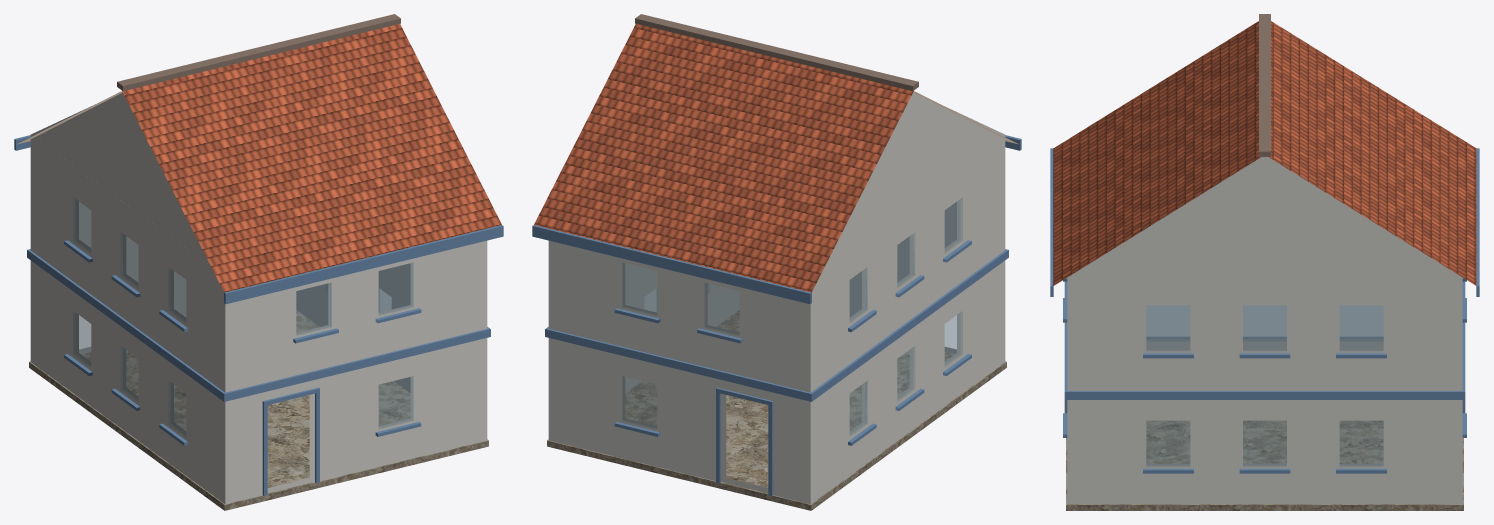
The model's file is cove-house-white.reveal-v1.lod1.glb.
3 renders of one model, left to right at view 1: azimuth 30°, elevation 25°; view 2: azimuth 150°, elevation 25°; view 3: azimuth 270°, elevation 25°, orthographic.
Visible parts, largest first — view 1: cove-house-white; view 2: cove-house-white; view 3: cove-house-white.
Boxes of the visible parts, bbox=[...] form: cove-house-white: bbox=[14, 14, 503, 510]; cove-house-white: bbox=[532, 14, 1021, 510]; cove-house-white: bbox=[1050, 14, 1479, 510].
Size of the model in its own units: 7.42 by 9.12 by 9.78.
4 materials, 2 textured.
